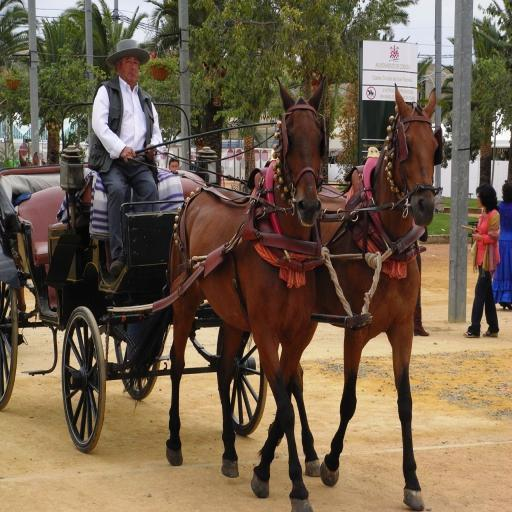horse: (167, 74, 329, 512), (288, 84, 438, 512)
